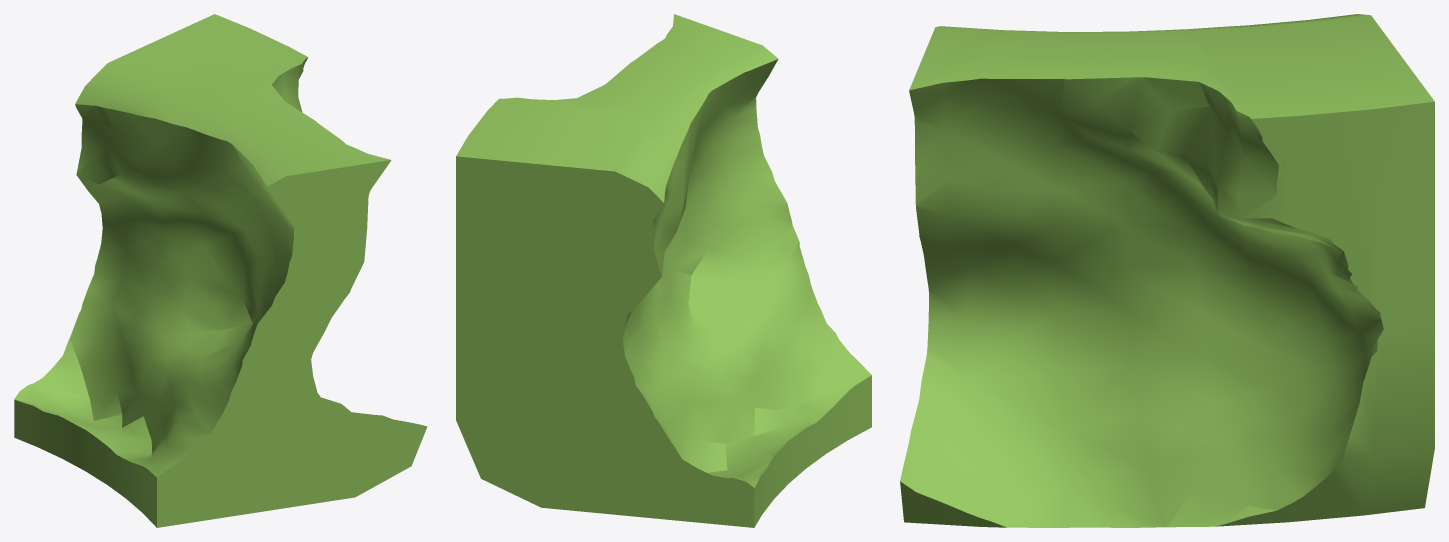
File: BrokenBlock9.obj
The picture shows the model from 3 angles, left to right: view 1: azimuth 30°, elevation 25°; view 2: azimuth 150°, elevation 25°; view 3: azimuth 270°, elevation 25°; orthographic projection. The views are drawn at different scales.
Parts seen in each view (by area): view 1: BrokenBlock9; view 2: BrokenBlock9; view 3: BrokenBlock9.
Boxes of the visible parts, x1,y1,x2,y2 form: BrokenBlock9: (14, 14, 427, 527); BrokenBlock9: (456, 14, 871, 527); BrokenBlock9: (900, 14, 1434, 527).
Bounding box in the file's own units: 6.51 × 7.63 × 8.22.
